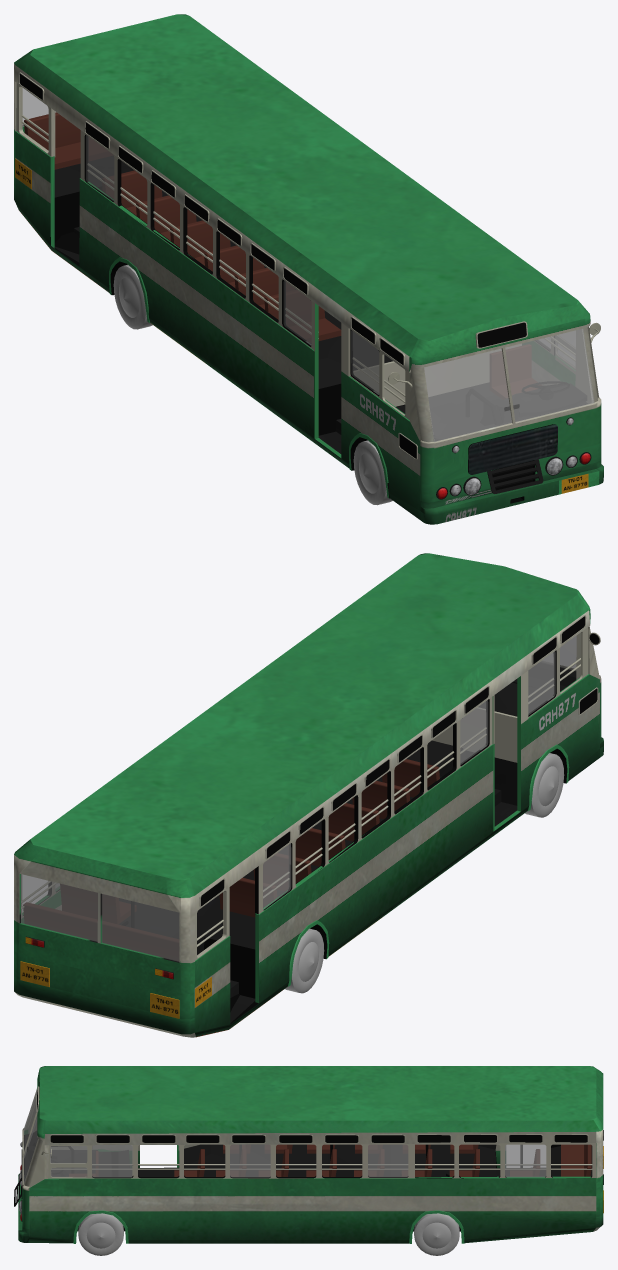
File: Chennaibus.fbx
3 views of the same model, one above another, from view 1: azimuth 30°, elevation 25°; view 2: azimuth 150°, elevation 25°; view 3: azimuth 270°, elevation 25° (orthographic). The views are drawn at different scales.
Parts seen in each view (by area): view 1: Chennaibus, Chennai_WindowGlass, FR, RR; view 2: Chennaibus, Chennai_WindowGlass, FR, RR; view 3: Chennaibus, Chennai_WindowGlass, FL, RL.
Boxes of the visible parts, x1,y1,x2,y2 form: Chennaibus: (14, 14, 603, 524); Chennai_WindowGlass: (22, 88, 594, 441); FR: (353, 440, 392, 505); RR: (113, 264, 152, 329); Chennaibus: (14, 553, 603, 1037); Chennai_WindowGlass: (20, 636, 576, 961); FR: (525, 753, 564, 817); RR: (285, 928, 324, 993); Chennaibus: (14, 1066, 603, 1243); Chennai_WindowGlass: (23, 1089, 546, 1183); FL: (78, 1213, 123, 1255); RL: (414, 1213, 459, 1255).
Size of the model in its own units: 241 by 212 by 829.
